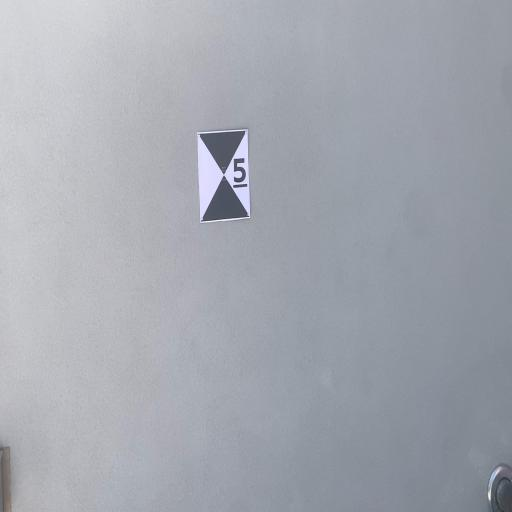target5: (197, 128, 251, 220)
